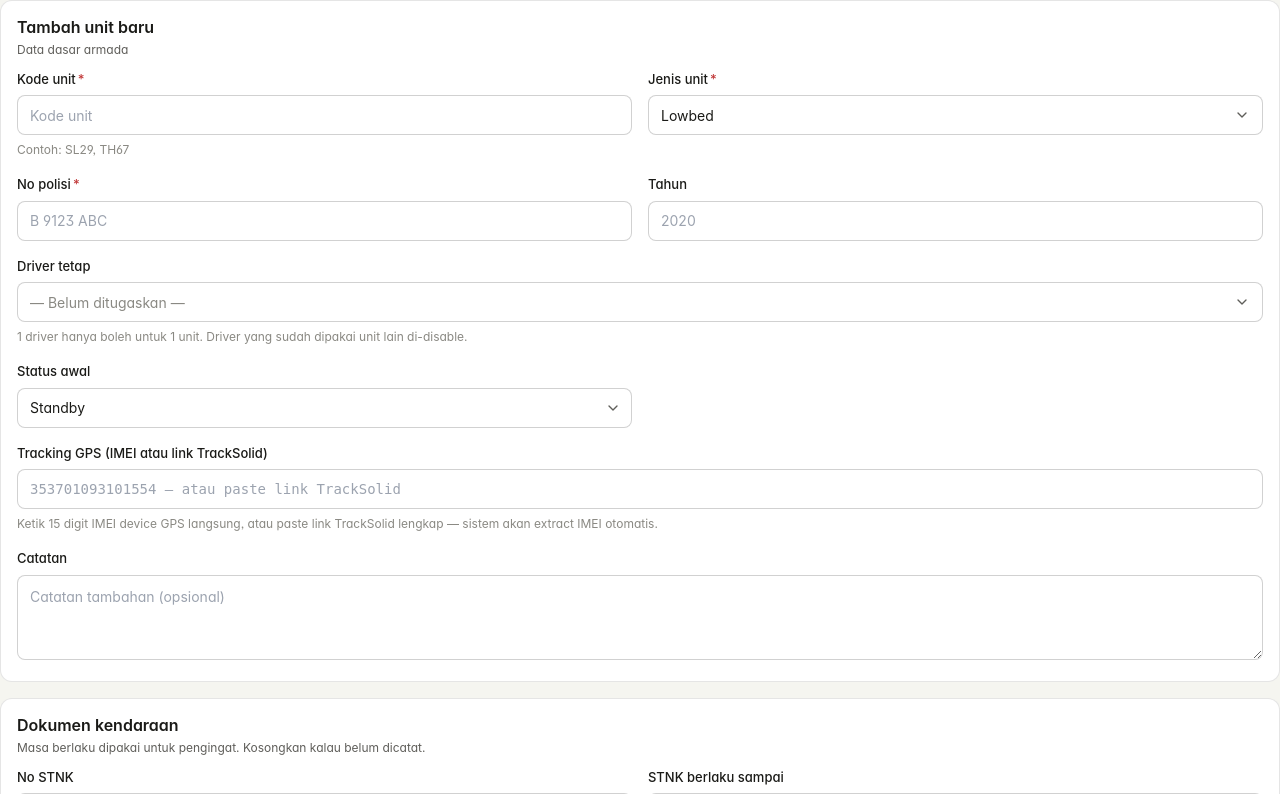
Scenario: UnitForm — dropdown driver › bisa dicari dengan mengetik nama
Click the button with class "combobox-trigger" showing "— Belum ditugaskan —": (107, 302) top-left (17, 282), bottom-right (1263, 322)
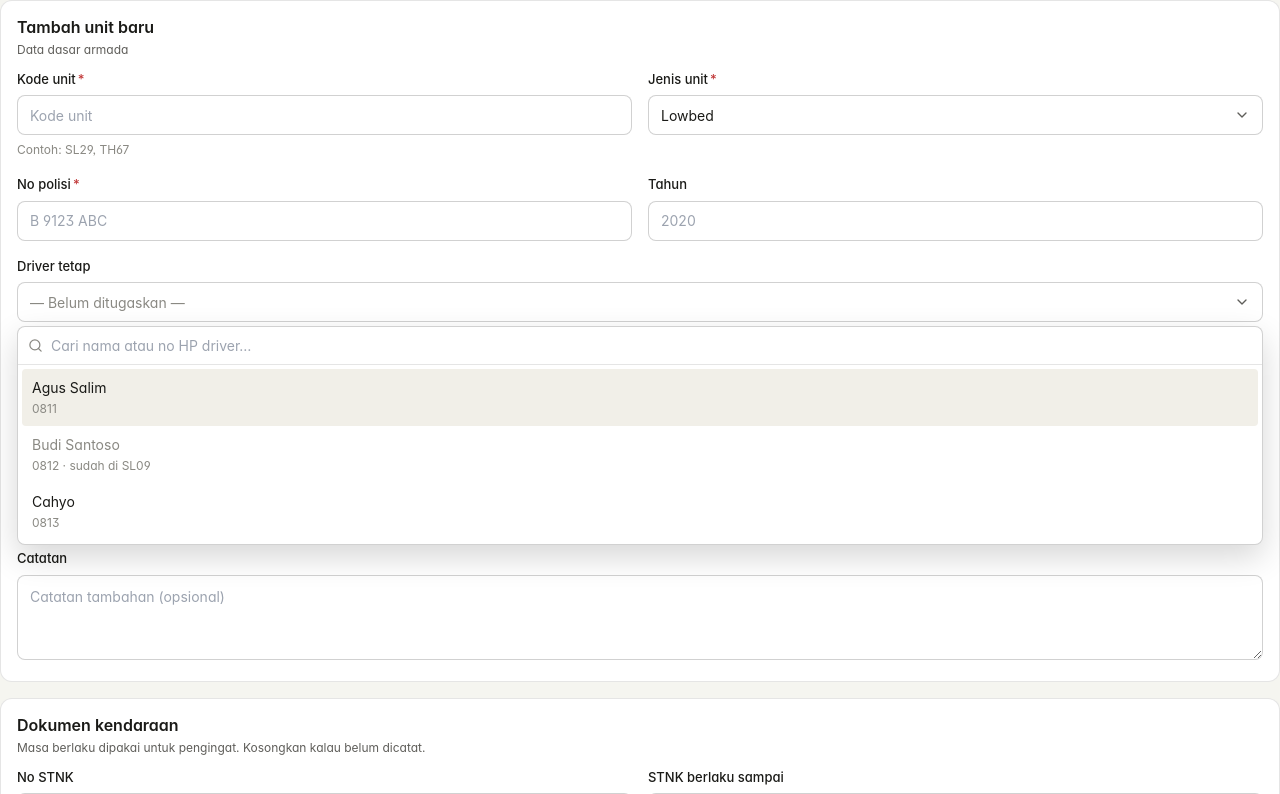
In the dropdown with placeholder "Cari nama atau no HP driver…": (652, 346) top-left (51, 336), bottom-right (1252, 356), type "cahyo"
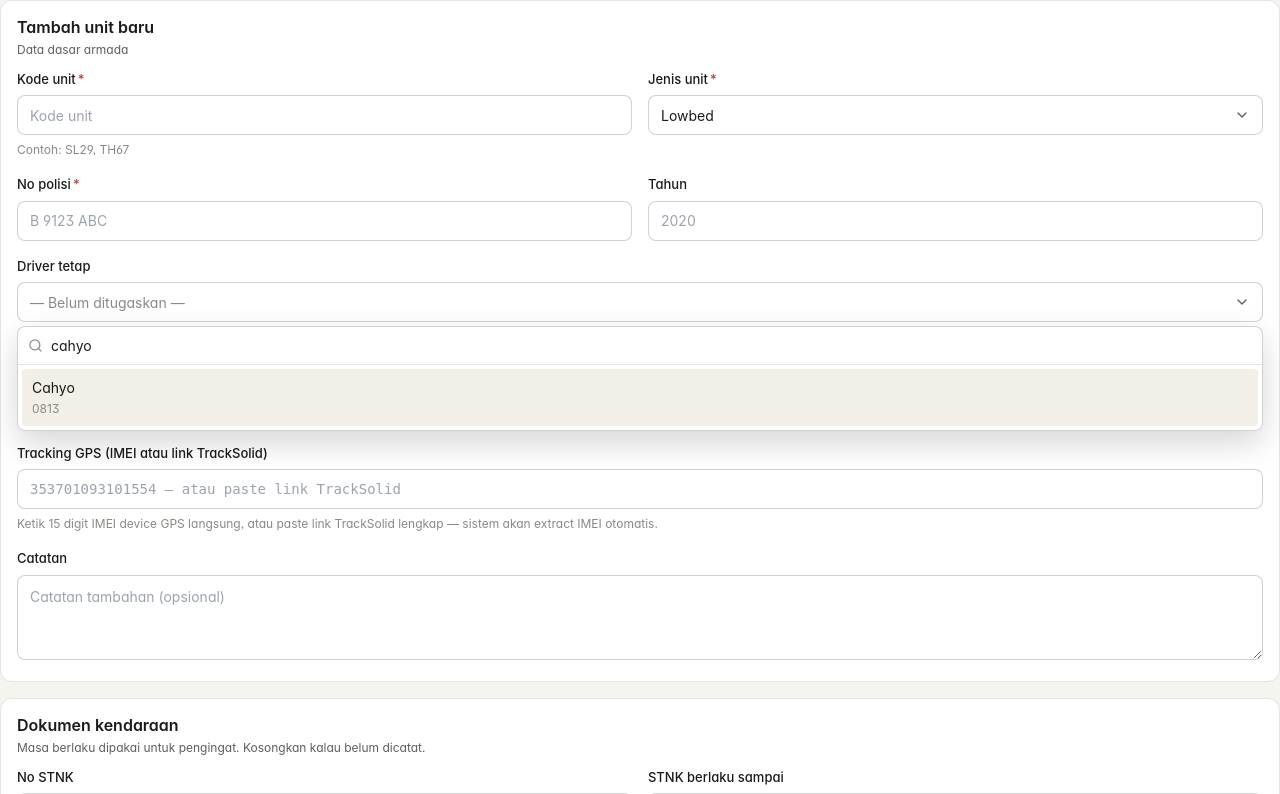
Expected: the option shows "Cahyo", top-left (22, 370), bottom-right (1258, 426)
Expected: the number of options is 1, top-left (22, 370), bottom-right (1258, 426)
